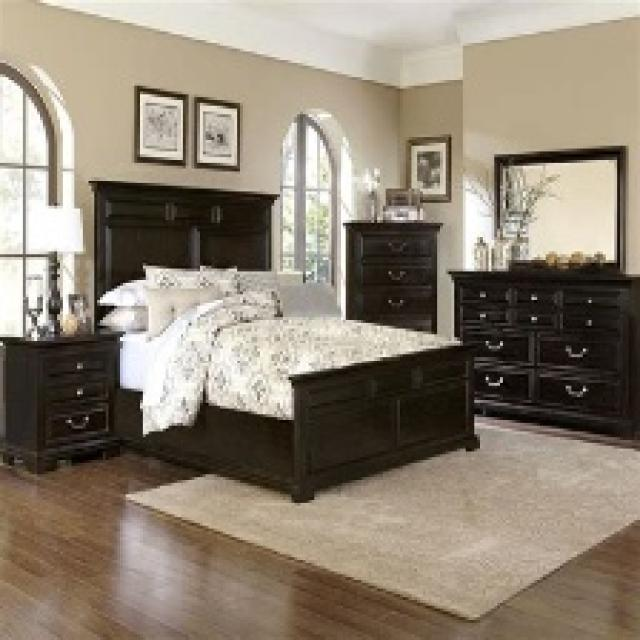Bed: (86, 177, 480, 503)
